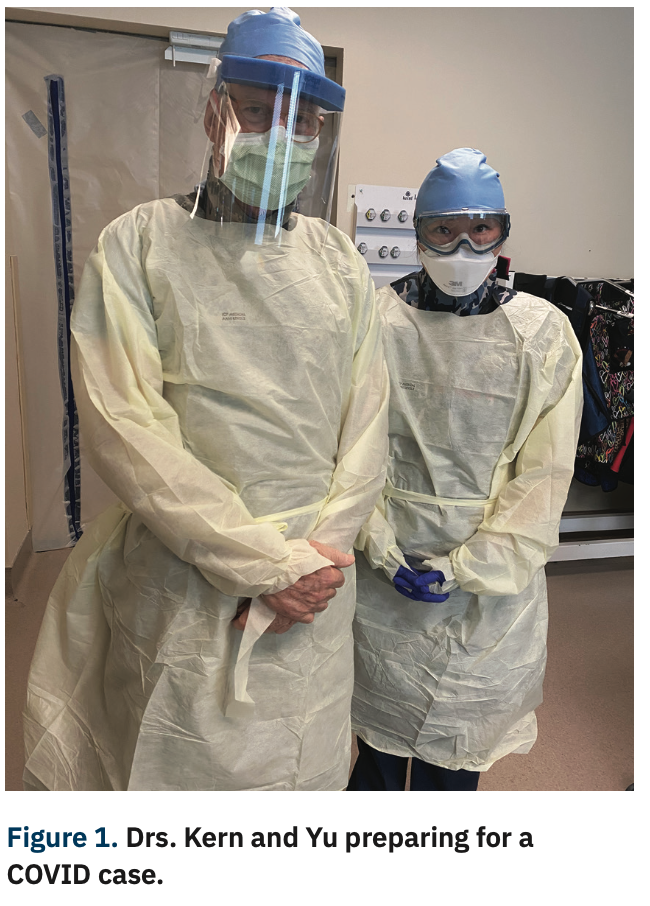Coverall: (73, 218, 361, 786), (366, 299, 567, 775)
Gloves: (389, 558, 453, 605)
Goggles: (412, 202, 515, 258)
with_mask: (220, 100, 319, 211), (416, 242, 502, 297)
